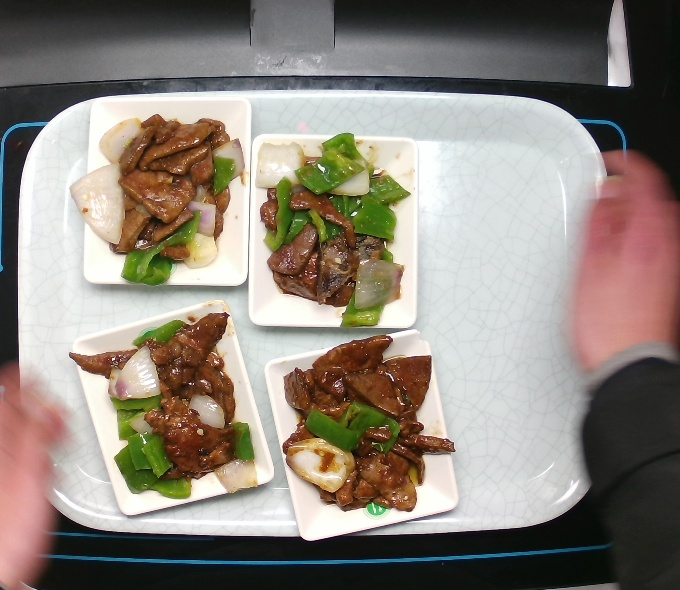wcq-ZhuGan: (60, 296, 265, 512), (282, 331, 465, 524), (68, 101, 249, 289), (252, 129, 413, 335)
